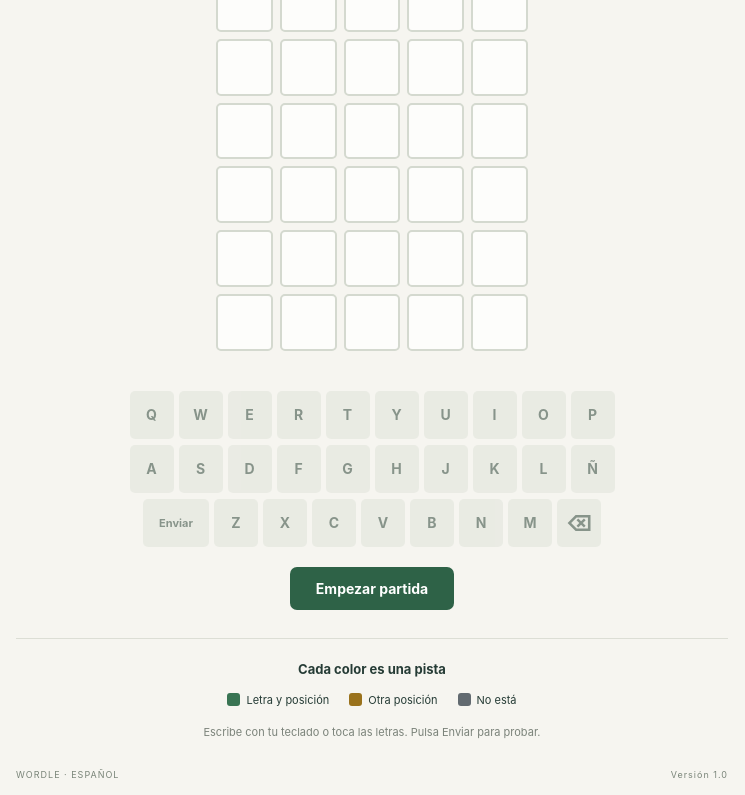
Test: Wordle v1.0 › shows a start error and permits retry
The image size is (745, 795).
(page scrolled)
Click the button "Empezar partida": click(372, 588) [290, 567, 454, 610]
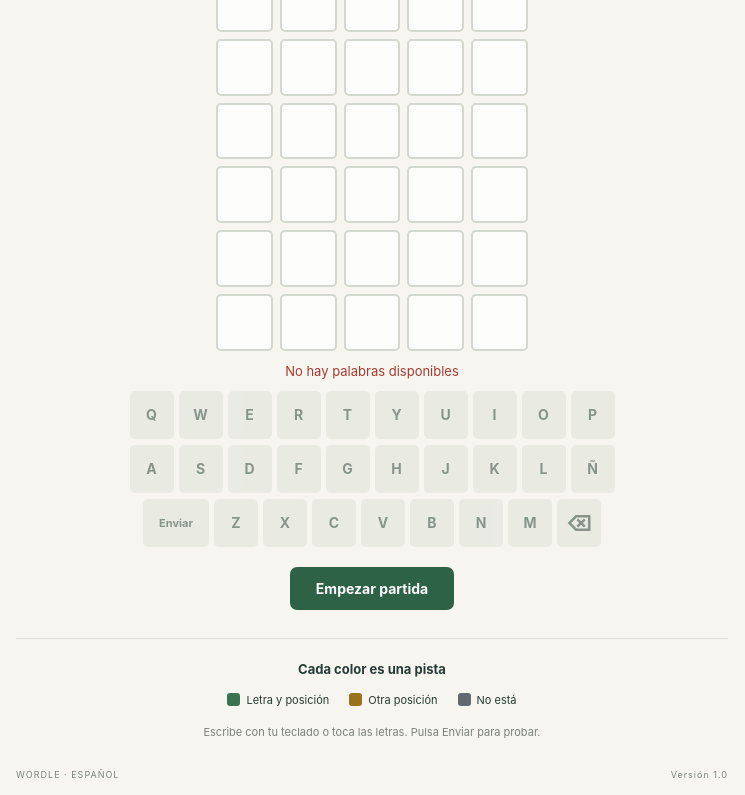
expect the message reads "No hay palabras disponibles": met, box [285, 363, 459, 379]
